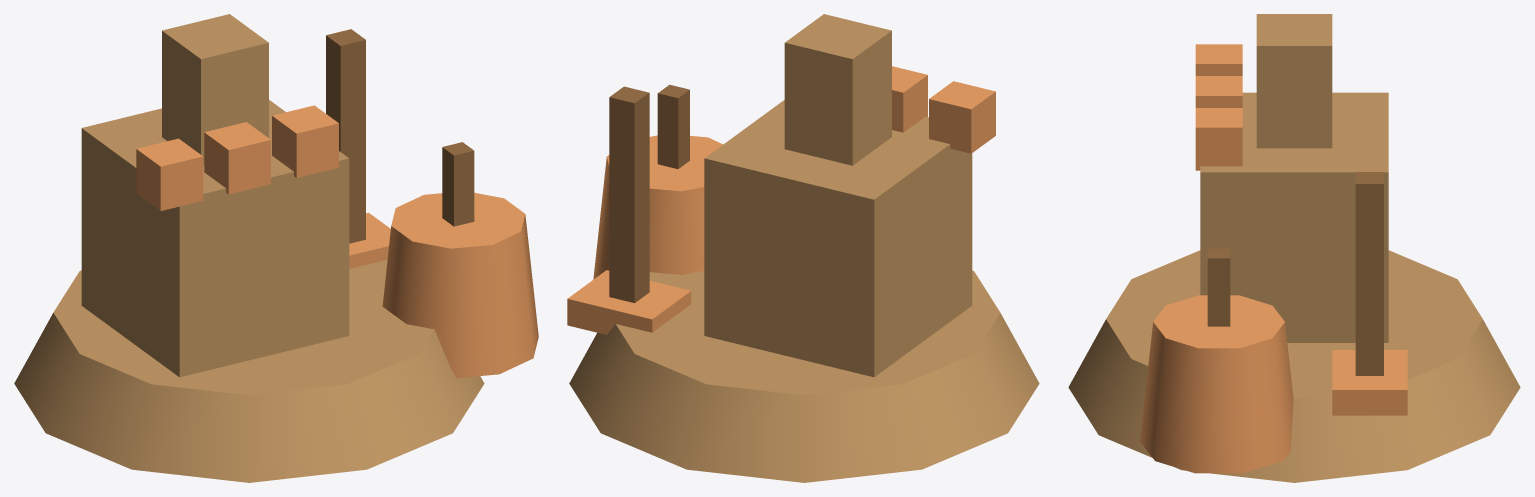
File: sandcastle_kit.glb
3 views of the same model, side by side, from view 1: azimuth 30°, elevation 25°; view 2: azimuth 150°, elevation 25°; view 3: azimuth 270°, elevation 25° (orthographic). The views are drawn at different scales.
Visible parts, largest first — view 1: sandcastle_kit; view 2: sandcastle_kit; view 3: sandcastle_kit.
Boxes of the visible parts, x1,y1,x2,y2 form: sandcastle_kit: (14, 14, 538, 482); sandcastle_kit: (567, 14, 1039, 482); sandcastle_kit: (1068, 14, 1520, 482).
Size of the model in its own units: 25.99 by 20 by 24.
